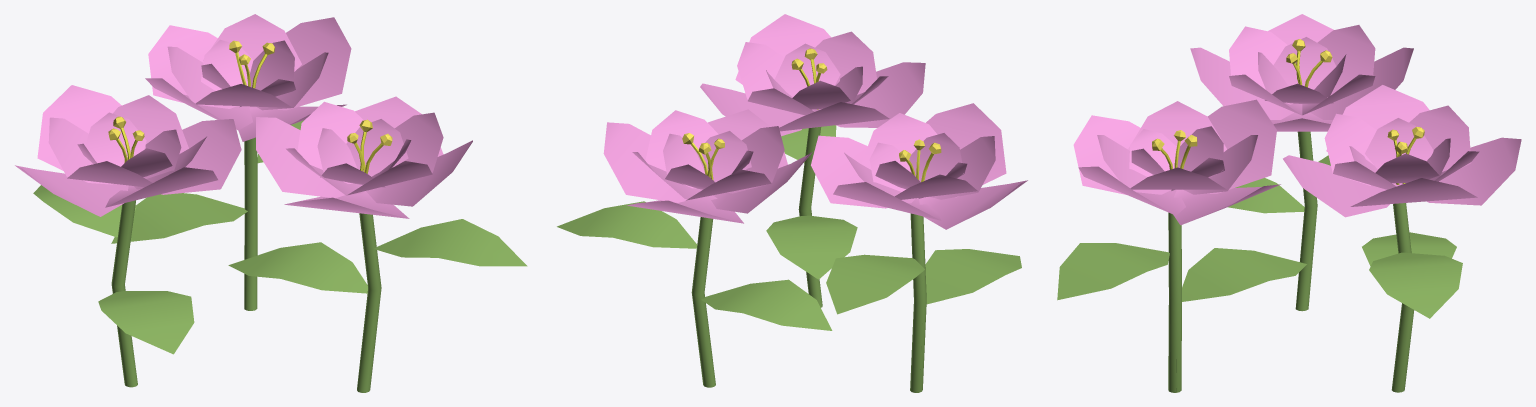
The model's file is flower01_pink.fbx.
3 views of the same model, side by side, from view 1: azimuth 30°, elevation 25°; view 2: azimuth 150°, elevation 25°; view 3: azimuth 270°, elevation 25° (orthographic). The views are drawn at different scales.
Visible parts, largest first — view 1: flowers01_pink; view 2: flowers01_pink; view 3: flowers01_pink.
Boxes of the visible parts, left/top/right/bottom form: flowers01_pink: left=15, top=14, right=527, bottom=392; flowers01_pink: left=557, top=14, right=1027, bottom=392; flowers01_pink: left=1057, top=14, right=1521, bottom=392.
Bounding box in the file's own units: 0.6152 × 0.3646 × 0.5906.
